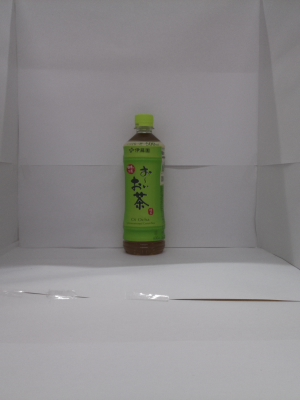おーいお茶: (116, 107, 172, 260)
